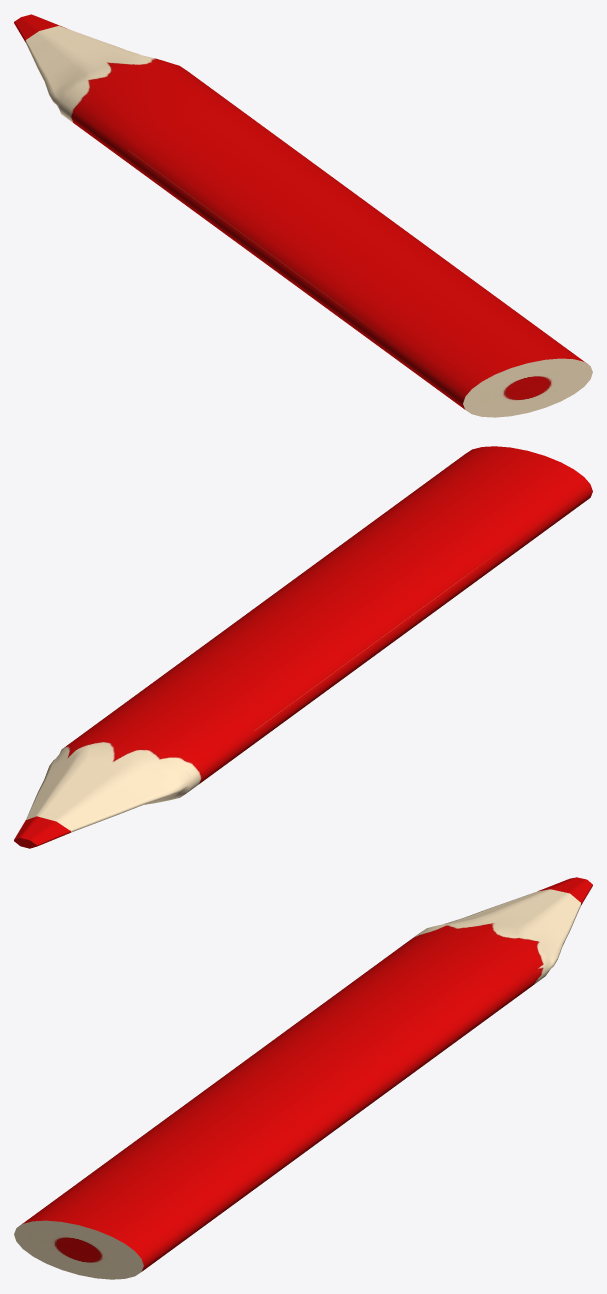
The model's file is ConstructionPencil.fbx.
3 renders of one model, top to bottom at view 1: azimuth 30°, elevation 25°; view 2: azimuth 150°, elevation 25°; view 3: azimuth 330°, elevation 25°, orthographic.
Parts seen in each view (by area): view 1: Loft001; view 2: Loft001; view 3: Loft001.
Boxes of the visible parts, bbox=[...] form: Loft001: bbox=[14, 14, 592, 417]; Loft001: bbox=[14, 446, 592, 848]; Loft001: bbox=[14, 877, 592, 1279].
Size of the model in its own units: 1.67 by 0.6121 by 11.18.
